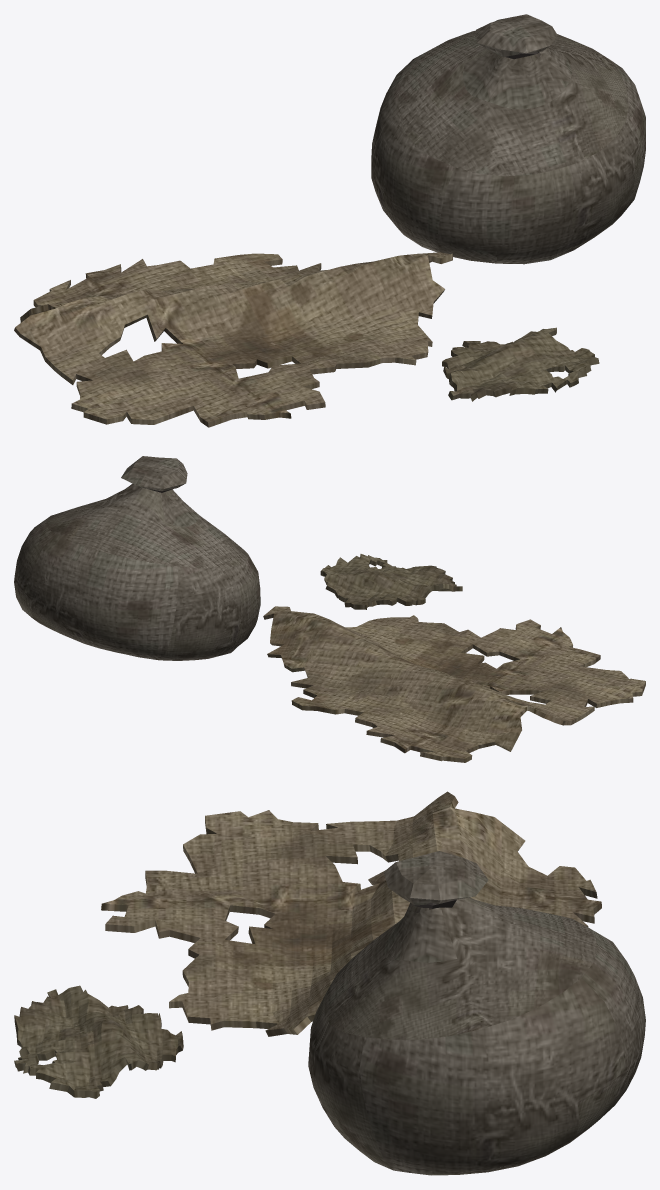
File: junk_rags.glb
3 views of the same model, one above another, from view 1: azimuth 30°, elevation 25°; view 2: azimuth 150°, elevation 25°; view 3: azimuth 270°, elevation 25° (orthographic). The views are drawn at different scales.
Visible parts, largest first — view 1: model; view 2: model; view 3: model.
Part boxes in pixels (x1,y1,x2,y2): model: (14, 14, 645, 427); model: (14, 456, 645, 762); model: (14, 791, 645, 1175).
Size of the model in its own units: 0.7858 by 0.253 by 0.5241.
Materials: 4 (3 with a texture image).
